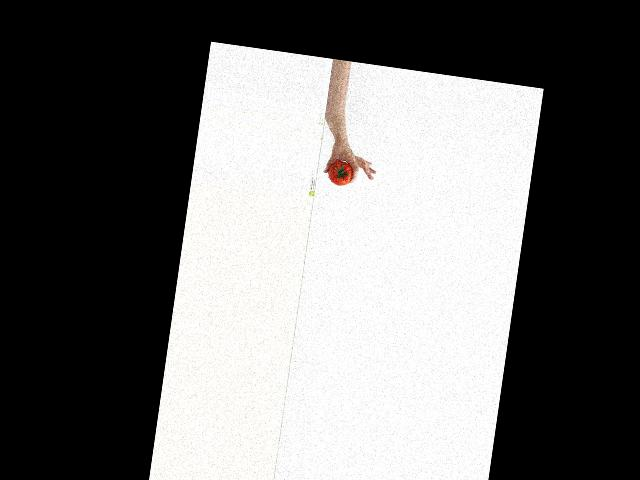tomato: (326, 159, 354, 186)
